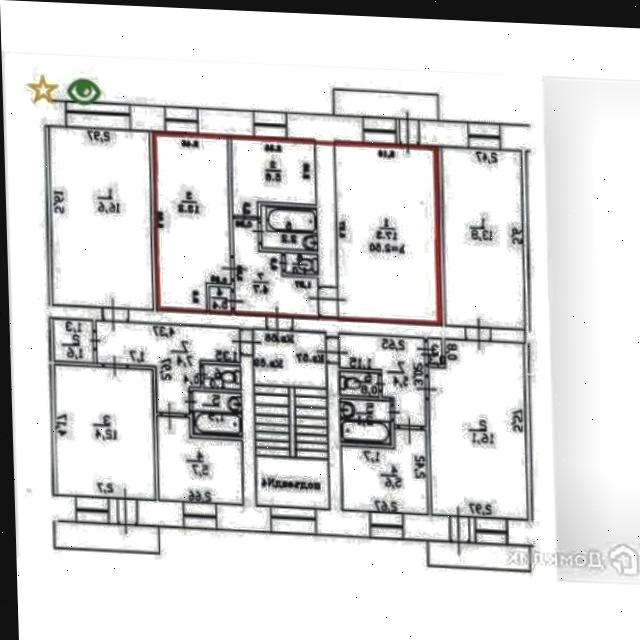room: (48, 124, 154, 313), (335, 140, 439, 327), (429, 338, 527, 521), (441, 145, 527, 330), (53, 363, 156, 502), (153, 131, 232, 312), (92, 321, 241, 416), (253, 328, 330, 511), (153, 416, 247, 505), (233, 219, 319, 316), (340, 333, 425, 427), (341, 429, 428, 516), (232, 135, 316, 217), (333, 90, 439, 120), (55, 523, 160, 552), (428, 542, 531, 571), (260, 206, 319, 251), (191, 390, 244, 436), (339, 400, 393, 445), (54, 318, 94, 364), (339, 371, 380, 396), (202, 364, 242, 389), (285, 253, 319, 274), (210, 286, 232, 311), (430, 338, 442, 364)
